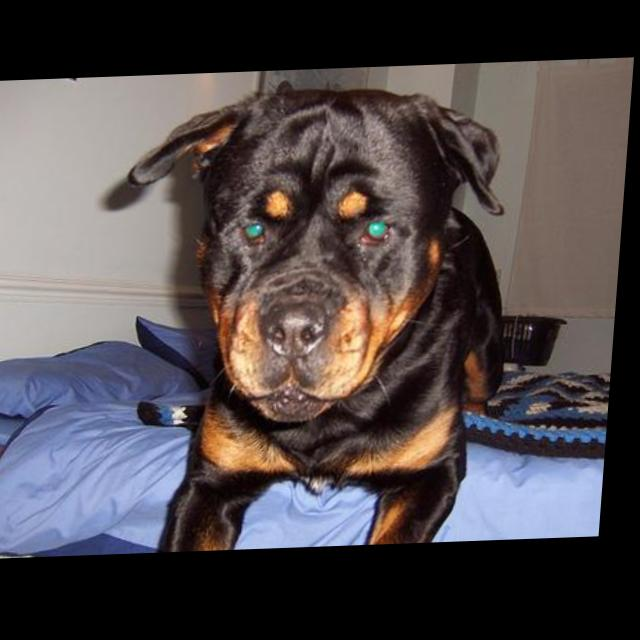rottweiler: (108, 75, 528, 556)
